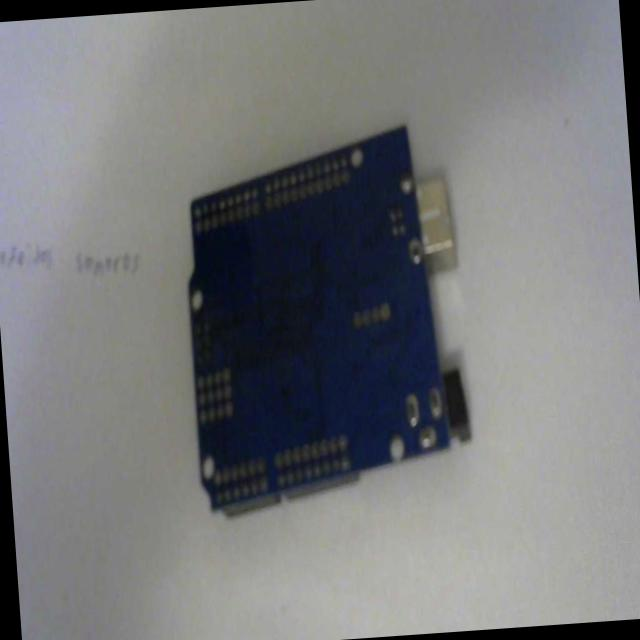arduino: (171, 109, 478, 528)
